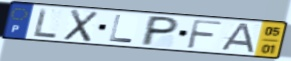A: (217, 23, 257, 55)
F: (185, 18, 225, 51)
L: (33, 7, 59, 40), (108, 14, 135, 45)
P: (138, 15, 182, 47)
X: (61, 8, 101, 44)
